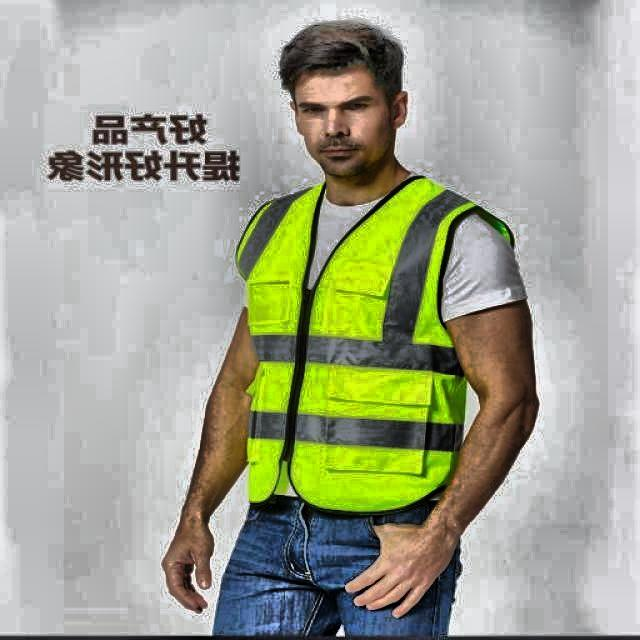safety_jacket: (226, 178, 504, 510)
